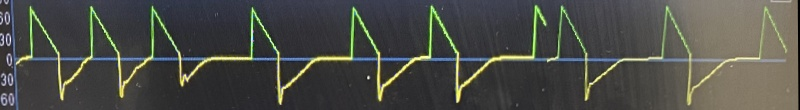normal_flow: (29, 0, 790, 110)
